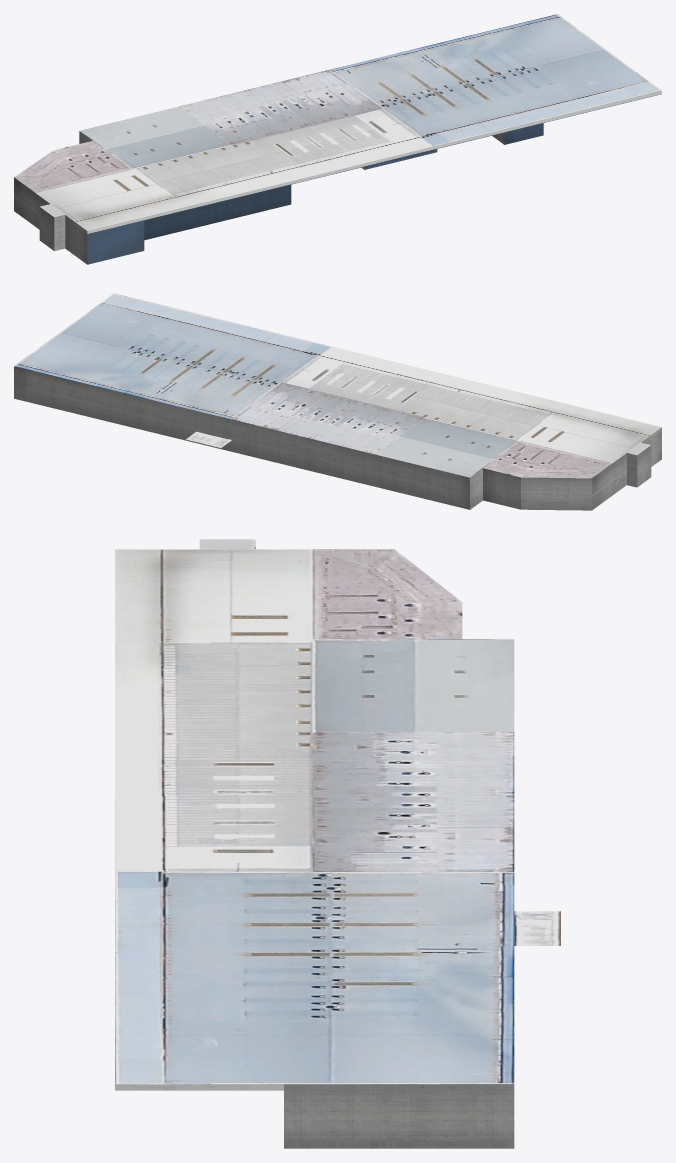
Rendered from BigGalpao.gltf.
The picture shows the model from 3 angles, top to bottom: view 1: azimuth 30°, elevation 25°; view 2: azimuth 150°, elevation 25°; view 3: azimuth 270°, elevation 25°; orthographic projection. The views are drawn at different scales.
Visible parts, largest first — view 1: node1; view 2: node1; view 3: node1.
Part boxes in pixels (x1,y1,x2,y2): node1: (14, 14, 661, 264); node1: (14, 293, 661, 510); node1: (115, 539, 560, 1148).
Bounding box in the file's own units: 163 × 8.99 × 56.38.
